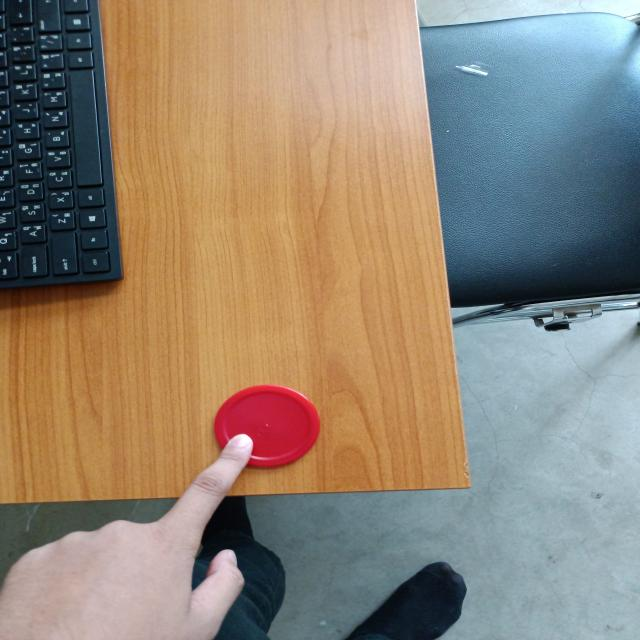chip: (212, 384, 320, 468)
